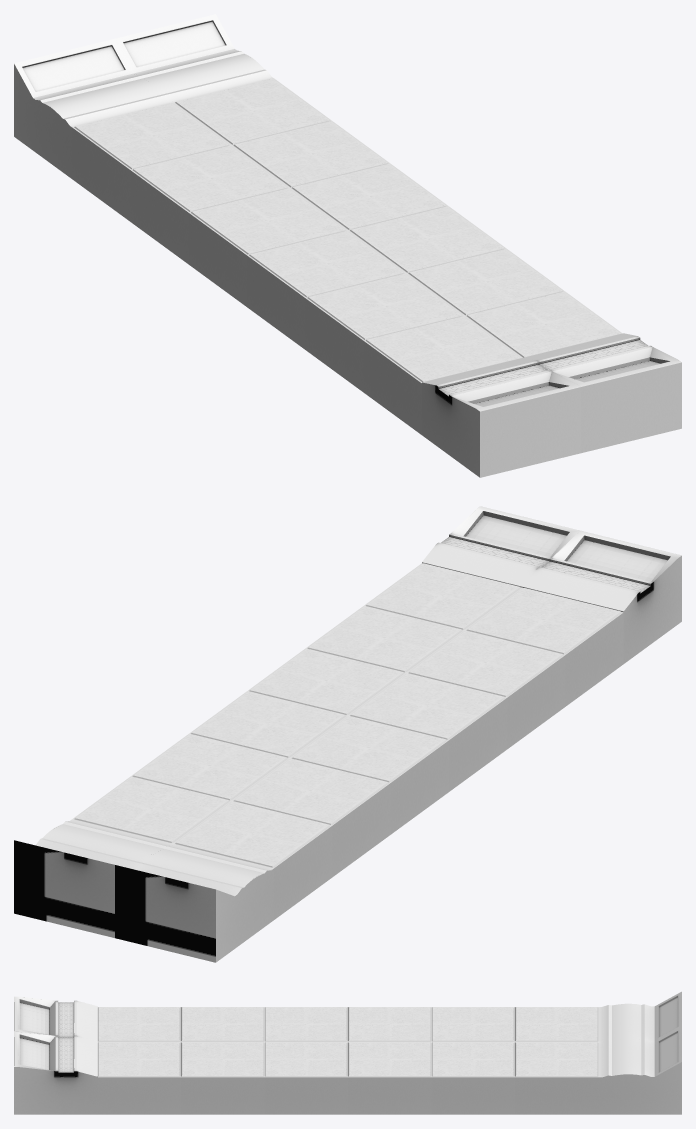
File: WallSolid_2_6.fbx
3 renders of one model, top to bottom at view 1: azimuth 30°, elevation 25°; view 2: azimuth 150°, elevation 25°; view 3: azimuth 270°, elevation 25°, orthographic. The views are drawn at different scales.
Visible parts, largest first — view 1: Wall_solid_2_6; view 2: Wall_solid_2_6; view 3: Wall_solid_2_6.
Part boxes in pixels (bbox=[...]): Wall_solid_2_6: bbox=[14, 14, 681, 477]; Wall_solid_2_6: bbox=[14, 506, 681, 962]; Wall_solid_2_6: bbox=[14, 991, 681, 1114].
Bounding box in the file's own units: 2 × 0.6947 × 8.
